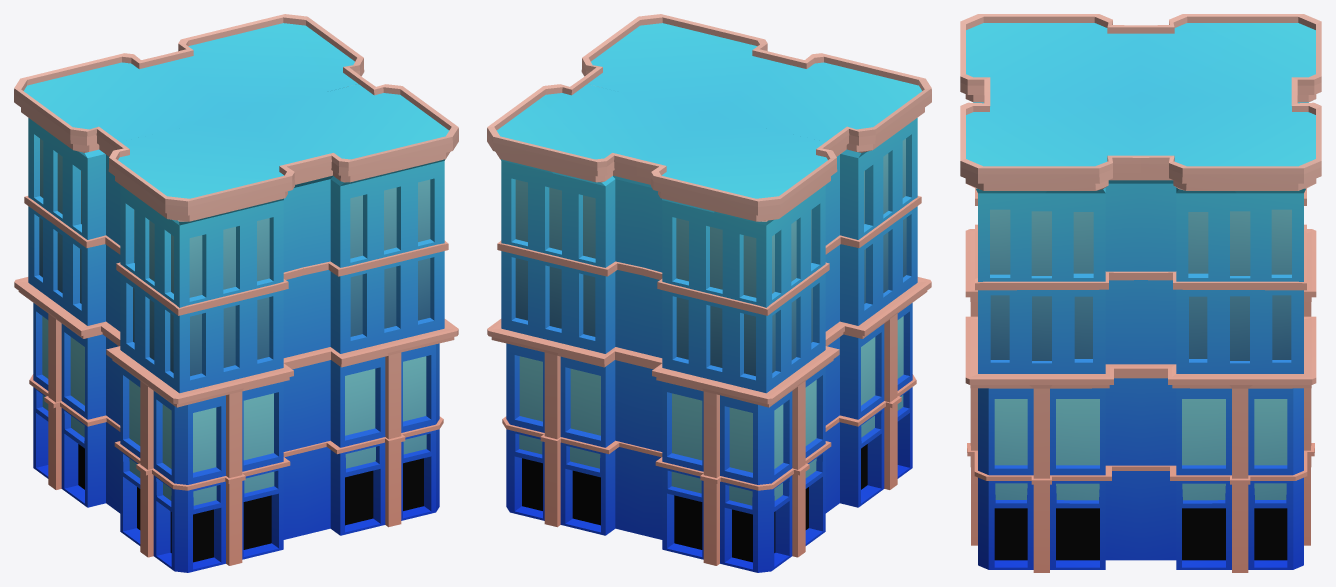
File: liveBuildingBlue.fbx
3 renders of one model, left to right at view 1: azimuth 30°, elevation 25°; view 2: azimuth 150°, elevation 25°; view 3: azimuth 270°, elevation 25°, orthographic. The views are drawn at different scales.
Parts seen in each view (by area): view 1: House.004; view 2: House.004; view 3: House.004.
Boxes of the visible parts, x1,y1,x2,y2 form: House.004: [14, 14, 458, 572]; House.004: [487, 14, 931, 572]; House.004: [960, 14, 1321, 572].
Size of the model in its own units: 2119 by 2618 by 2098.
Materials: 4 (3 with a texture image).
